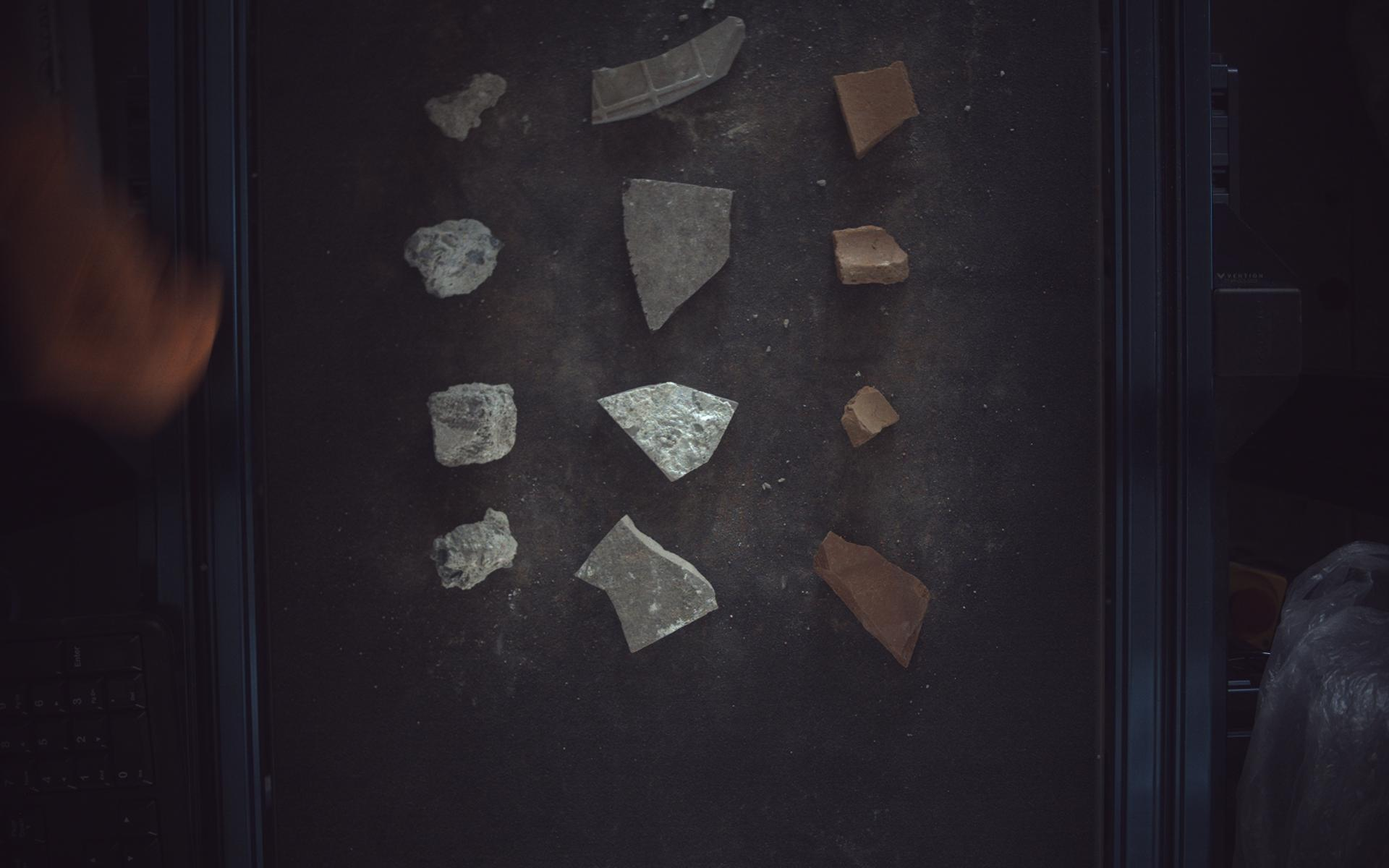brick: (816, 532, 932, 668), (835, 59, 920, 158), (835, 225, 911, 284), (843, 386, 901, 448)
concrete: (404, 218, 503, 298), (428, 384, 517, 467), (431, 509, 518, 591), (425, 72, 507, 139)
tile: (577, 516, 719, 653), (592, 14, 746, 123), (624, 178, 734, 330), (600, 381, 739, 481)
